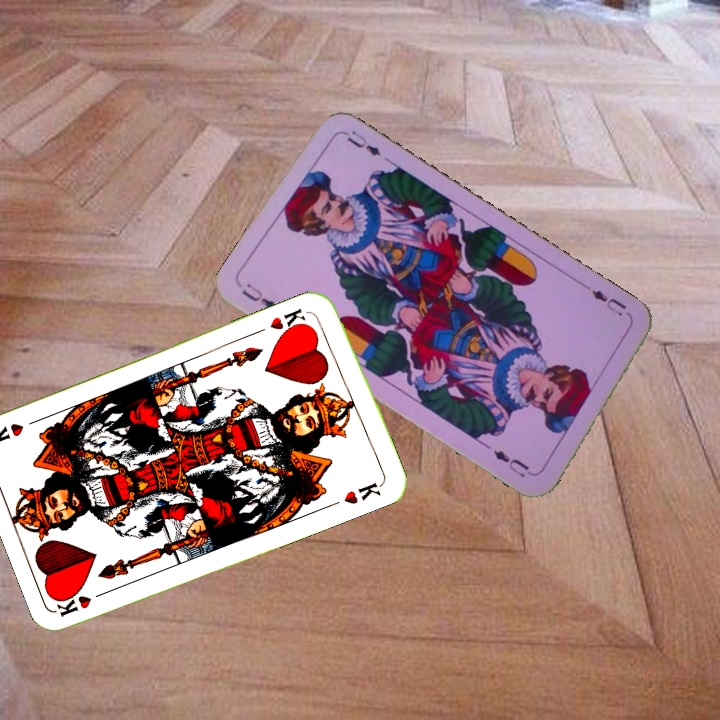EU: (587, 285, 630, 319), (237, 279, 280, 313)
HK: (53, 586, 112, 619), (265, 304, 311, 338)
